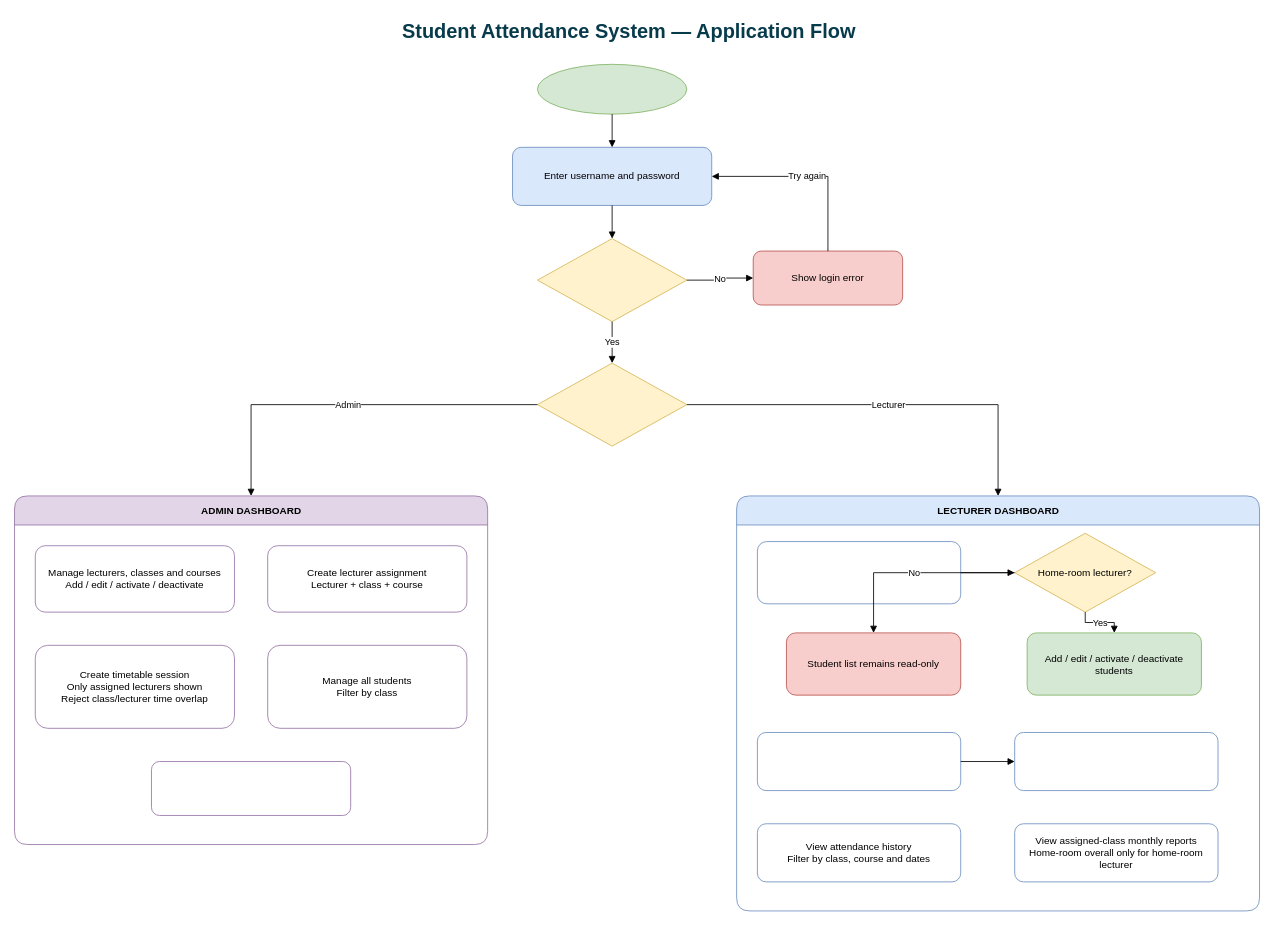
Image size: 1274x925. Some labels were removed from this diagram. The centre of each missing label's shape, as x and y in pixels:
Choose scheduled session for date: (x=859, y=761)
Mark Present / Absent Add remark and save: (x=1116, y=761)
Select an assigned class View student list: (x=859, y=572)
Start application: (x=612, y=88)
User role?: (x=612, y=404)
Valid active user?: (x=612, y=280)
View attendance and monthly reports: (x=251, y=788)
